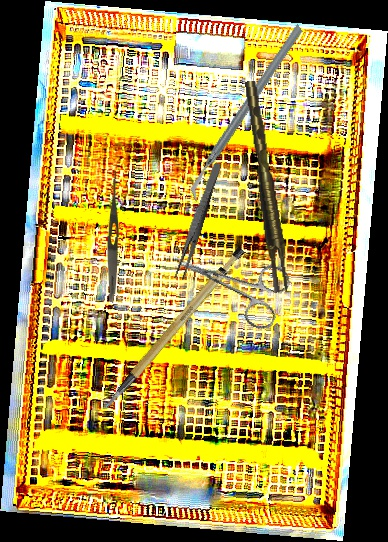Chopper: (143, 22, 351, 204)
Dressing Forceps: (173, 161, 223, 281), (106, 170, 120, 303)
Iris Scissors: (166, 229, 295, 334)
Scalpel Handle: (79, 243, 264, 412)
Tissue Forceps: (244, 79, 290, 294)
